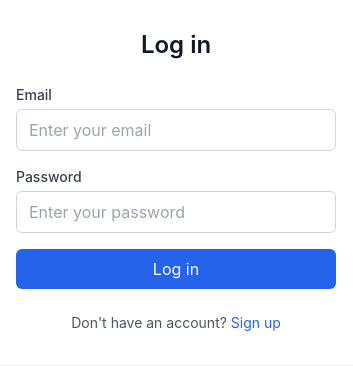
Test case: Login › shows validation error when email is empty
The image size is (353, 366).
Step 1. Type "password123" into the password field labelled "Password" → (176, 212), box 16,191 -> 336,233
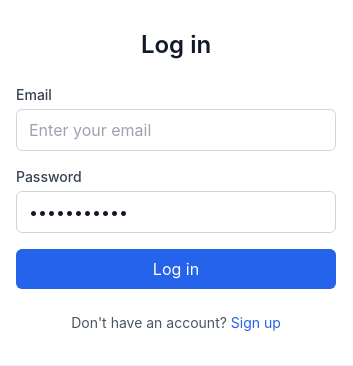
Step 2. Click the button "Log in" → (176, 269), box 16,249 -> 336,289
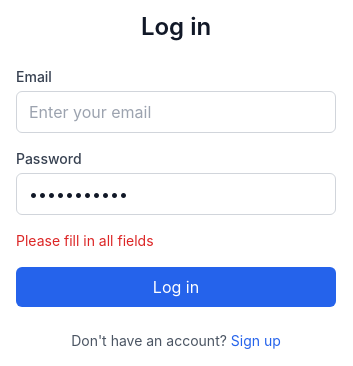
Result: the text "Please fill in all fields" is shown at 16,232 -> 154,249
